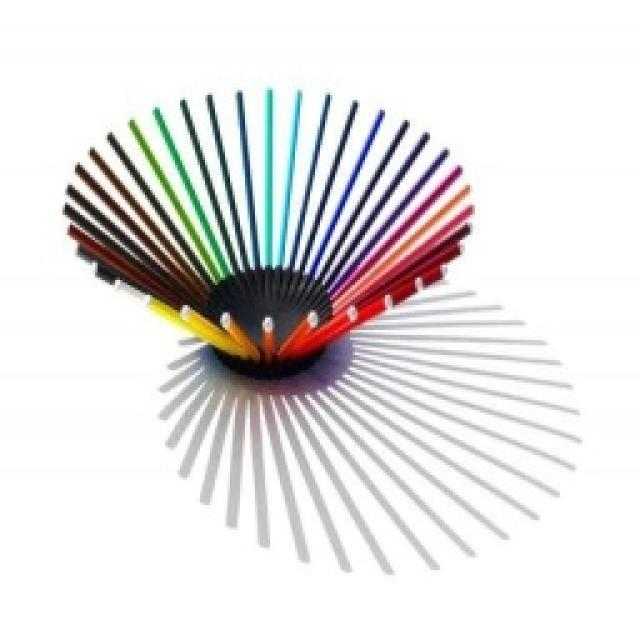pencil: (57, 83, 585, 575)
